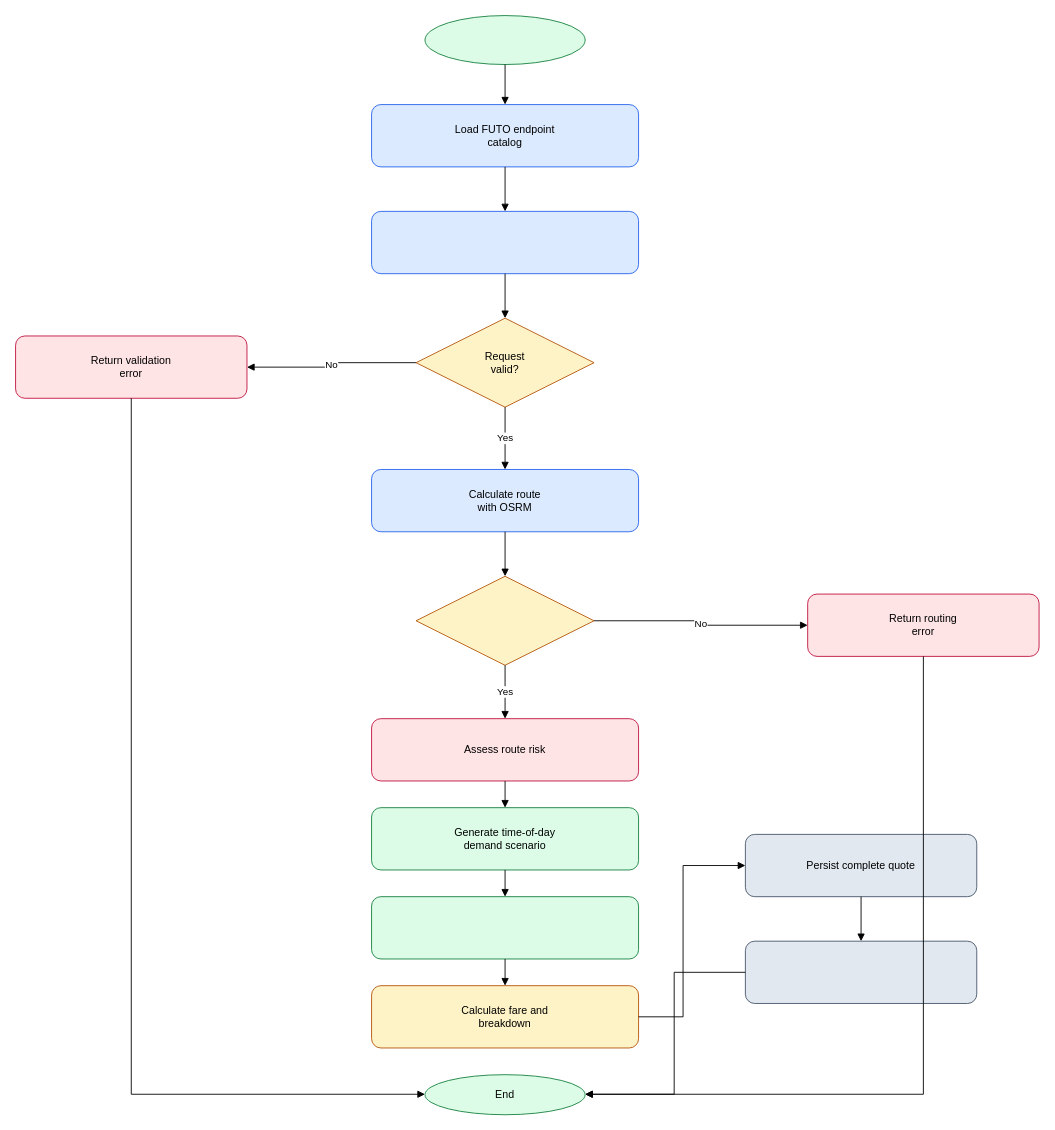
Image size: 1055x1130. Some labels were removed from this diagram. Each missing label, with the box of its shape:
Calculate demand multiplier: (371, 896, 639, 959)
Return quote, provenance, and timings: (744, 940, 977, 1003)
Route available?: (415, 575, 594, 665)
Start: (424, 15, 585, 65)
User selects origin, destination, and time: (371, 210, 639, 274)
